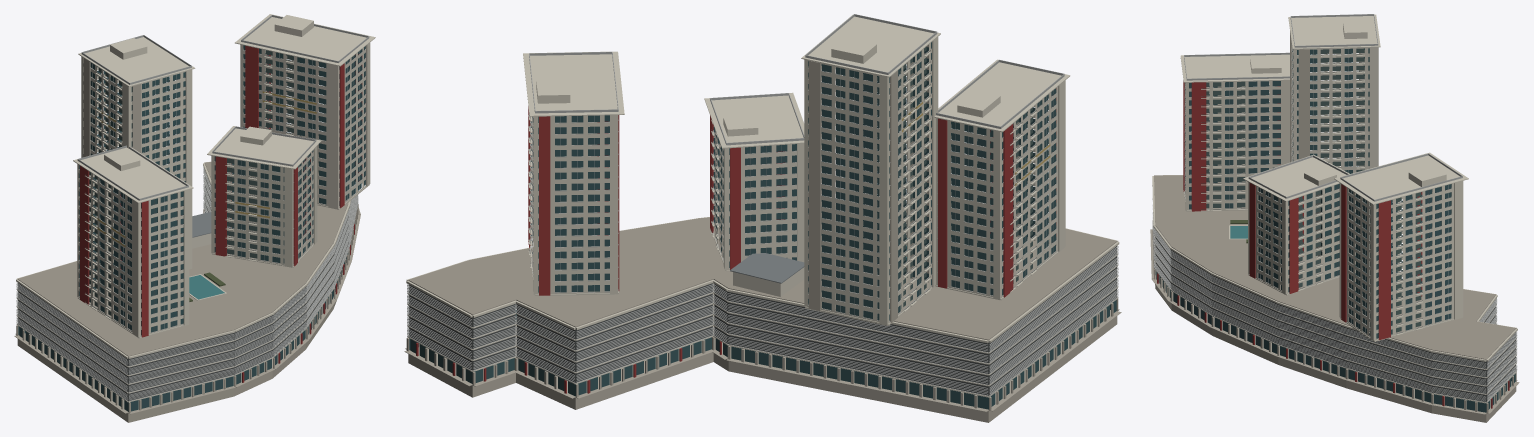
Rendered from residensi_utmkl_lod1.glb.
3 renders of one model, left to right at view 1: azimuth 30°, elevation 25°; view 2: azimuth 150°, elevation 25°; view 3: azimuth 270°, elevation 25°, orthographic. The views are drawn at different scales.
Parts seen in each view (by area): view 1: Ivory, SilkSilver, DeepGlass, Paving, Graphite, Plinth, RedSpine, LandingGlass, OchreInlay, Water, RoofDeck; view 2: Ivory, SilkSilver, Graphite, DeepGlass, Paving, Plinth, RedSpine, LandingGlass, RoofDeck; view 3: Ivory, SilkSilver, DeepGlass, Graphite, Paving, Plinth, RedSpine, LandingGlass.
Boxes of the visible parts, x1,y1,x2,y2 form: Ivory: (16,14,375,402); SilkSilver: (16,15,369,401); DeepGlass: (18,45,365,411); Paving: (18,136,349,356); Graphite: (18,55,348,402); Plinth: (14,58,360,422); RedSpine: (80,45,365,382); LandingGlass: (89,50,318,316); OchreInlay: (91,91,316,246); Water: (189,275,224,299); RoofDeck: (192,212,231,237); Ivory: (406,15,1119,397); SilkSilver: (407,14,1118,395); Graphite: (408,50,1116,395); DeepGlass: (409,42,1116,409); Paving: (408,203,1117,340); Plinth: (404,44,1121,422); RedSpine: (416,88,1056,393); LandingGlass: (715,46,1032,308); RoofDeck: (730,251,804,283); Ivory: (1152,14,1517,403); SilkSilver: (1152,14,1517,402); DeepGlass: (1155,48,1515,412); Graphite: (1155,54,1515,401); Paving: (1154,175,1516,359); Plinth: (1150,31,1519,422); RedSpine: (1157,81,1509,408); LandingGlass: (1206,48,1421,332).
Size of the model in its own units: 146 by 94.24 by 121.
